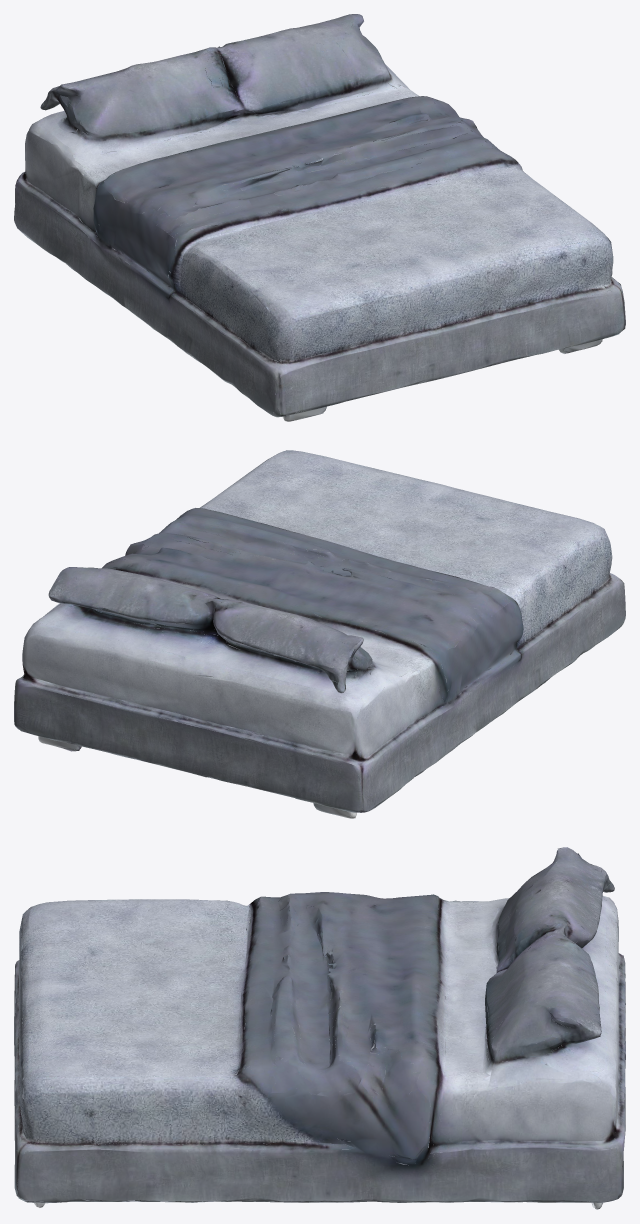
File: bluebed.obj
3 views of the same model, one above another, from view 1: azimuth 30°, elevation 25°; view 2: azimuth 150°, elevation 25°; view 3: azimuth 270°, elevation 25° (orthographic). The views are drawn at different scales.
Parts seen in each view (by area): view 1: bed; view 2: bed; view 3: bed.
Part boxes in pixels (x1,y1,x2,y2): bed: (14, 14, 625, 421); bed: (14, 450, 625, 818); bed: (14, 847, 625, 1209).
Size of the model in its own units: 111 by 49.57 by 140.
